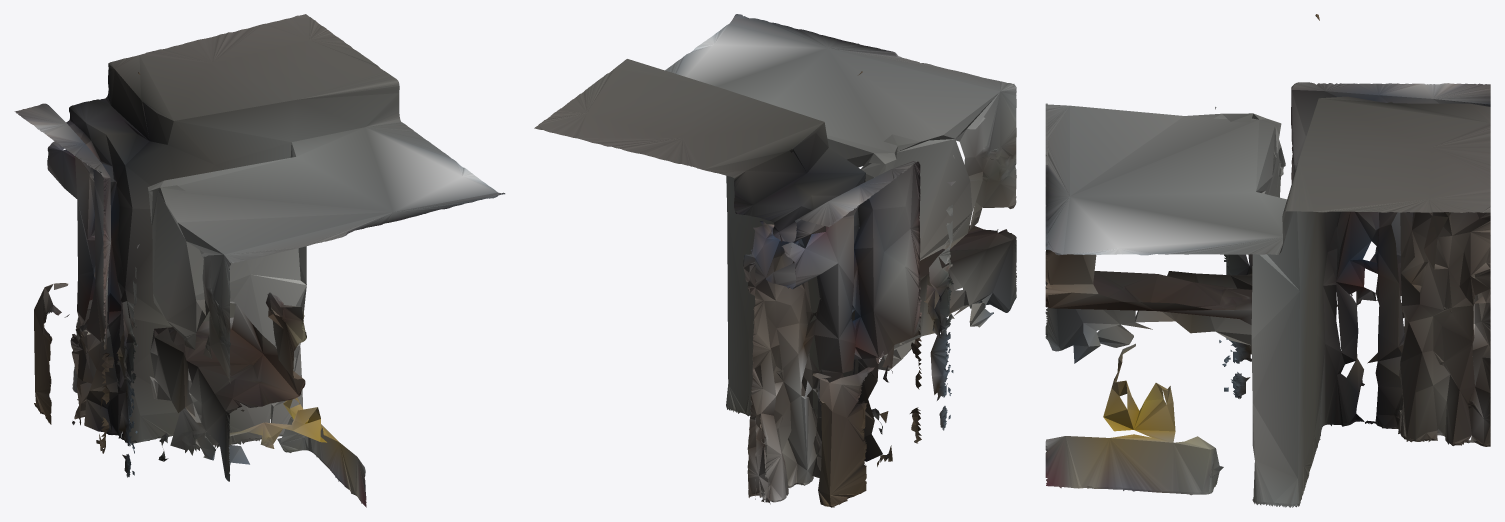
File: coarse.glb
The picture shows the model from 3 angles, left to right: view 1: azimuth 30°, elevation 25°; view 2: azimuth 150°, elevation 25°; view 3: azimuth 270°, elevation 25°; orthographic projection. The views are drawn at different scales.
Bounding box in the file's own units: 1.52 × 1.87 × 1.79.
